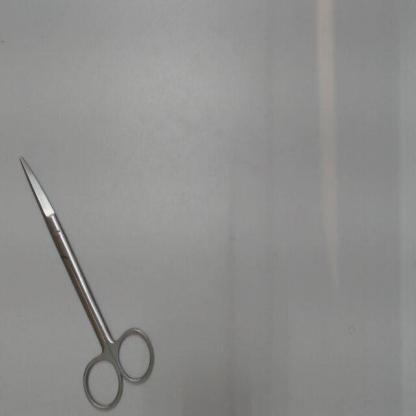Curved Mayo Scissors: (15, 150, 161, 415)
